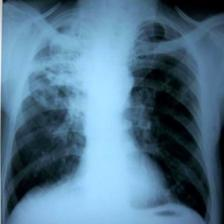tuberculosis: (2, 0, 222, 224)
